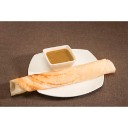dosa: (5, 60, 126, 98)
